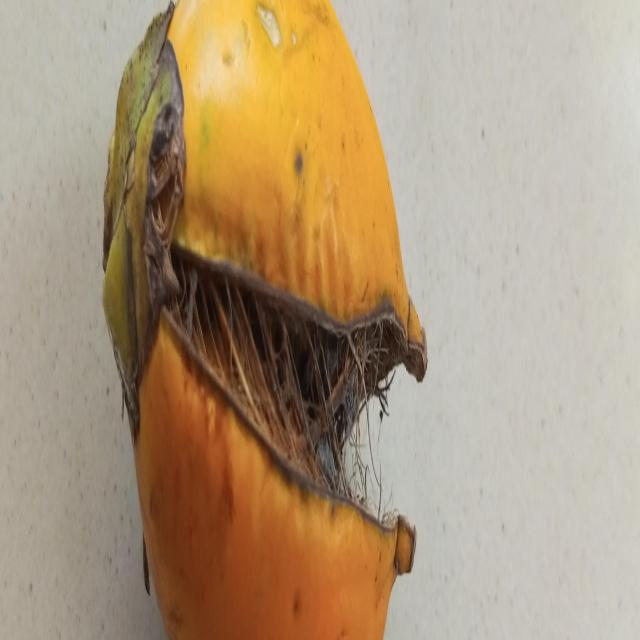damaged: (103, 0, 427, 640)
